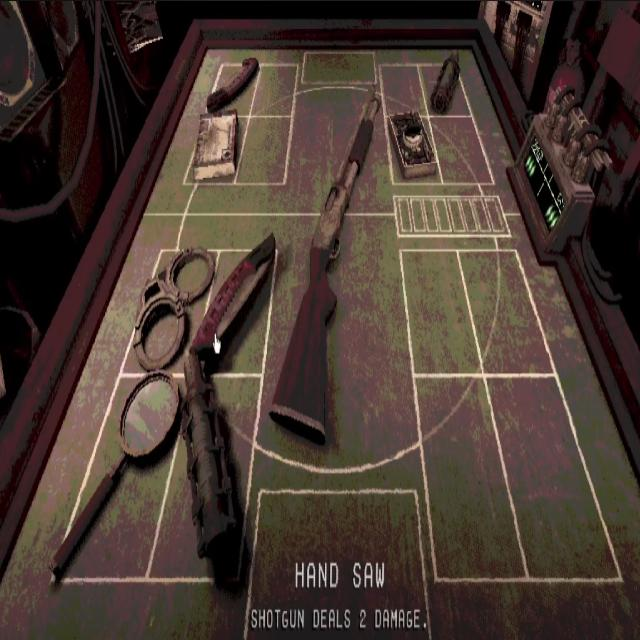changepolarity: (387, 111, 436, 178)
doubledamage: (188, 233, 277, 357), (206, 57, 258, 111)
expired-medicine: (193, 109, 240, 181)
handcuff: (133, 247, 216, 371)
lens: (46, 370, 180, 575)
